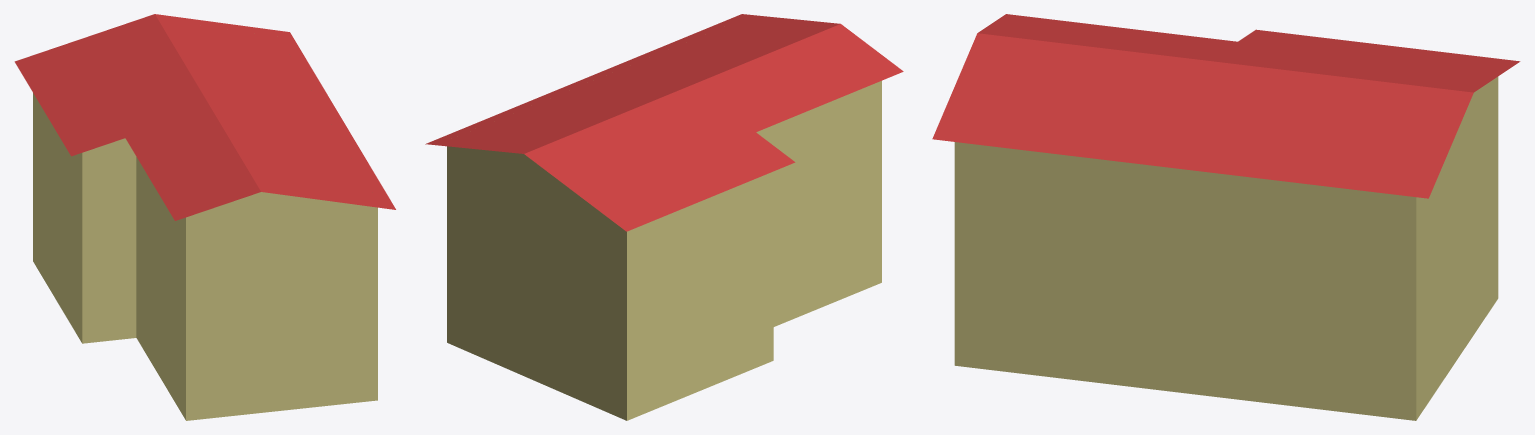
3 renders of one model, left to right at view 1: azimuth 30°, elevation 25°; view 2: azimuth 150°, elevation 25°; view 3: azimuth 270°, elevation 25°, orthographic. The views are drawn at different scales.
Bounding box in the file's own units: 16.63 × 24.37 × 12.35.
